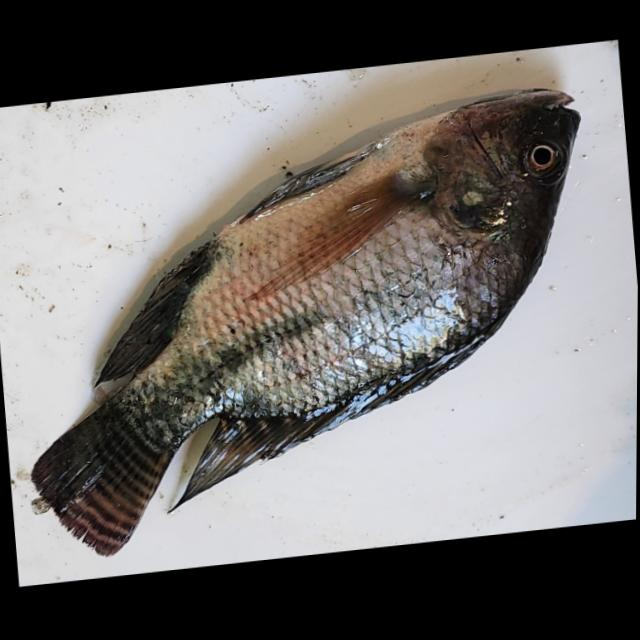Tilapia: (0, 80, 616, 566)
